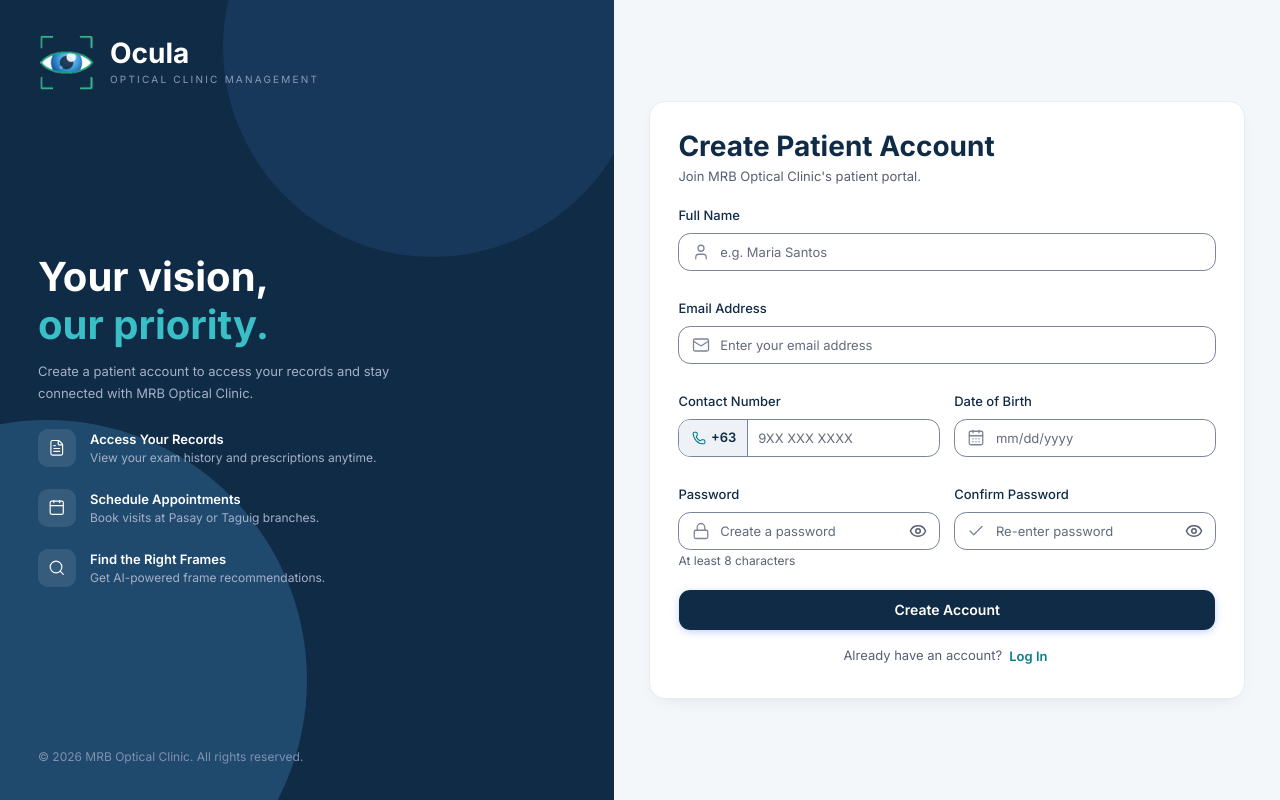
Register › keeps the return page when the visitor chooses "Log In" instead
Click the link "Log In". click: (1028, 656)
box: [1009,648,1048,664]
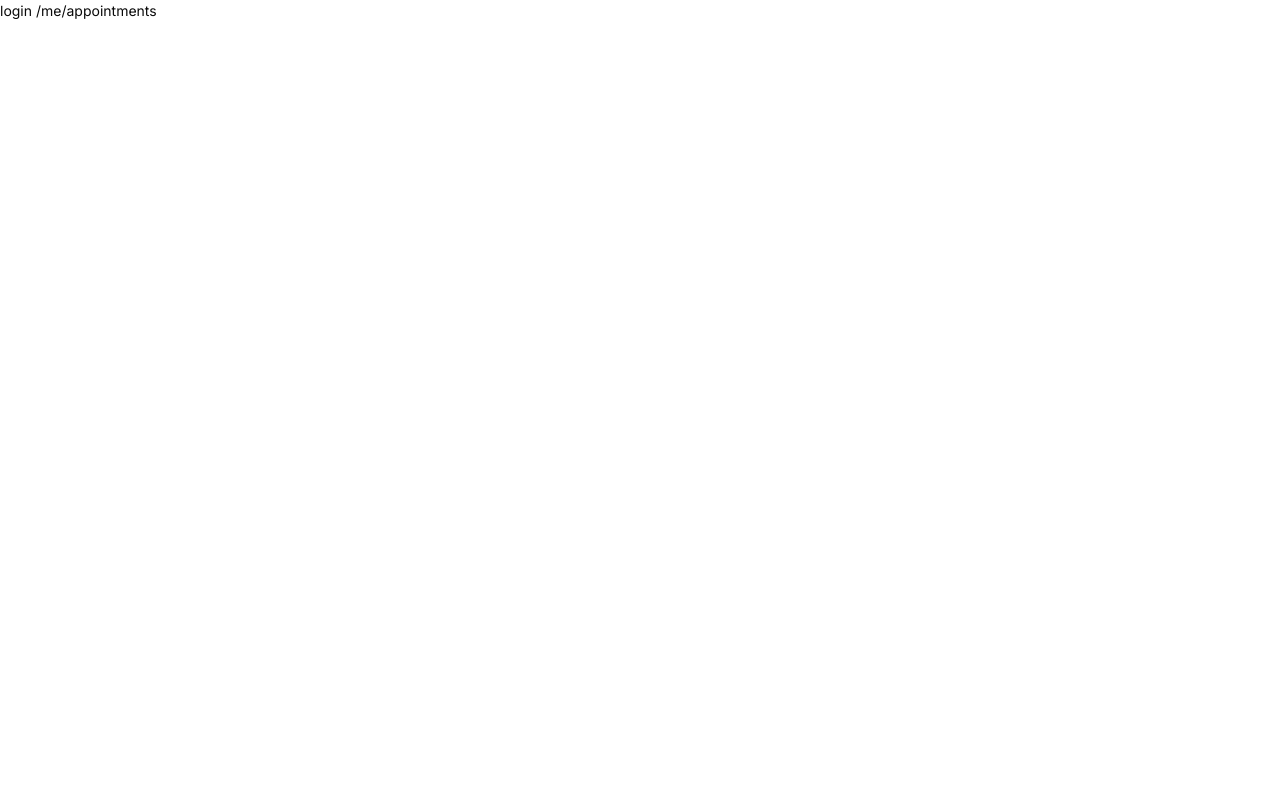
expect the text "login /me/appointments" is shown: met, box [0,2,157,19]
